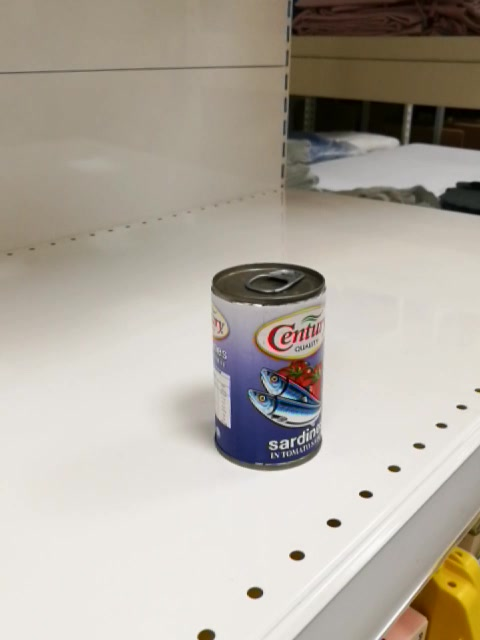sardine: (209, 262, 327, 472)
